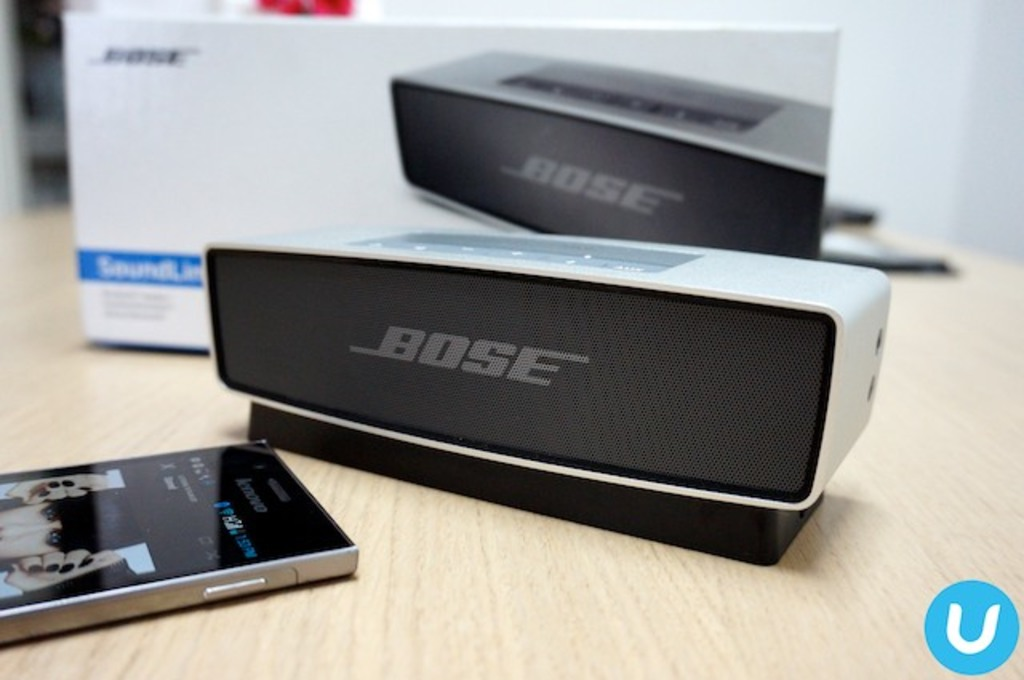Mobile-phone: (0, 432, 355, 635)
